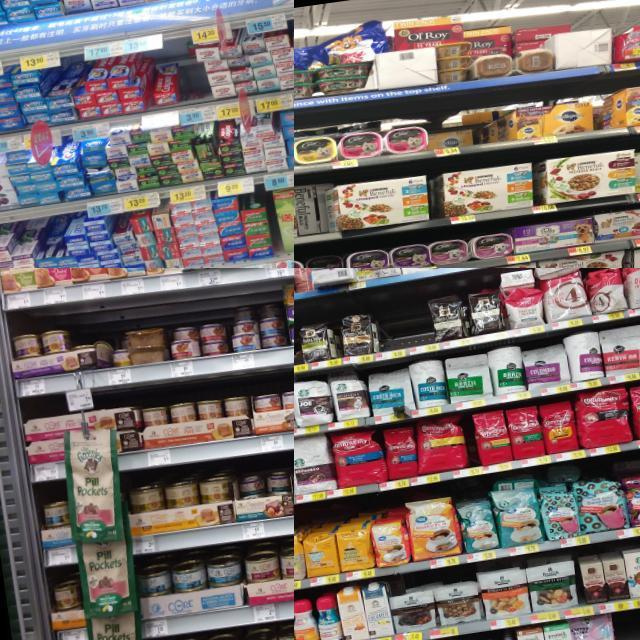Imprecise: (232, 300, 284, 350)
